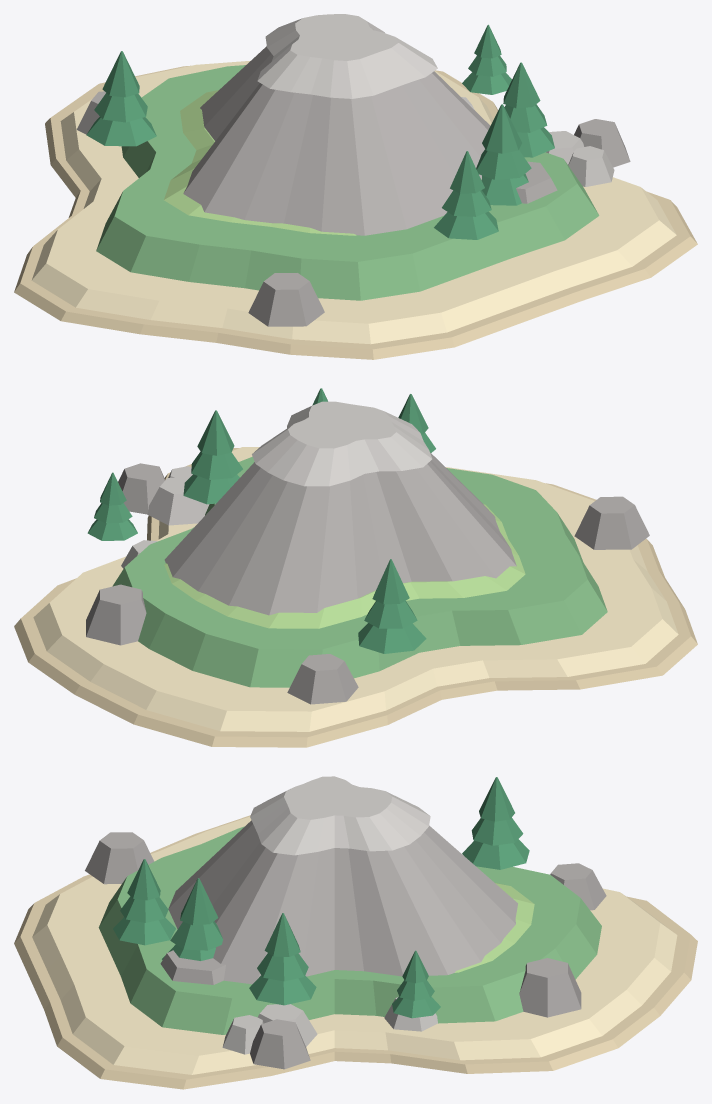
File: island_3.glb
3 views of the same model, one above another, from view 1: azimuth 30°, elevation 25°; view 2: azimuth 150°, elevation 25°; view 3: azimuth 270°, elevation 25° (orthographic). The views are drawn at different scales.
Visible parts, largest first — view 1: Island3_Sand, Island3_Hill, Island3_Grass, Island3_SandWet, Island3_Trees, Island3_HillTop, Island3_Rocks, Island3_GrassHi, Island3_Rocks2; view 2: Island3_Sand, Island3_Hill, Island3_Grass, Island3_SandWet, Island3_HillTop, Island3_Rocks, Island3_Trees, Island3_GrassHi, Island3_Rocks2; view 3: Island3_Sand, Island3_Hill, Island3_Grass, Island3_SandWet, Island3_Trees, Island3_Rocks, Island3_HillTop, Island3_Rocks2, Island3_GrassHi.
Part boxes in pixels (x1=…): Island3_Sand: x1=31, y1=60, x2=676, y2=344; Island3_Hill: x1=183, y1=46, x2=490, y2=235; Island3_Grass: x1=96, y1=65, x2=599, y2=300; Island3_SandWet: x1=14, y1=65, x2=697, y2=359; Island3_Trees: x1=86, y1=24, x2=554, y2=239; Island3_HillTop: x1=257, y1=14, x2=437, y2=98; Island3_Rocks: x1=76, y1=91, x2=630, y2=326; Island3_GrassHi: x1=164, y1=90, x2=356, y2=235; Island3_Rocks2: x1=461, y1=97, x2=614, y2=186; Island3_Sand: x1=33, y1=447, x2=678, y2=731; Island3_Hill: x1=164, y1=452, x2=516, y2=615; Island3_Grass: x1=112, y1=456, x2=607, y2=687; Island3_SandWet: x1=14, y1=448, x2=697, y2=747; Island3_HillTop: x1=252, y1=401, x2=432, y2=486; Island3_Rocks: x1=86, y1=463, x2=649, y2=704; Island3_Trees: x1=87, y1=388, x2=435, y2=653; Island3_GrassHi: x1=164, y1=504, x2=525, y2=628; Island3_Rocks2: x1=121, y1=466, x2=209, y2=568; Island3_Sand: x1=32, y1=816, x2=677, y2=1074; Island3_Hill: x1=168, y1=820, x2=517, y2=984; Island3_Grass: x1=98, y1=826, x2=601, y2=1034; Island3_SandWet: x1=14, y1=815, x2=697, y2=1089; Island3_Trees: x1=113, y1=777, x2=529, y2=1018; Island3_Rocks: x1=85, y1=832, x2=606, y2=1069; Island3_HillTop: x1=250, y1=776, x2=430, y2=855; Island3_Rocks2: x1=222, y1=997, x2=437, y2=1054; Island3_GrassHi: x1=455, y1=883, x2=534, y2=972.
Size of the model in its own units: 4.03 by 1.15 by 4.24.
